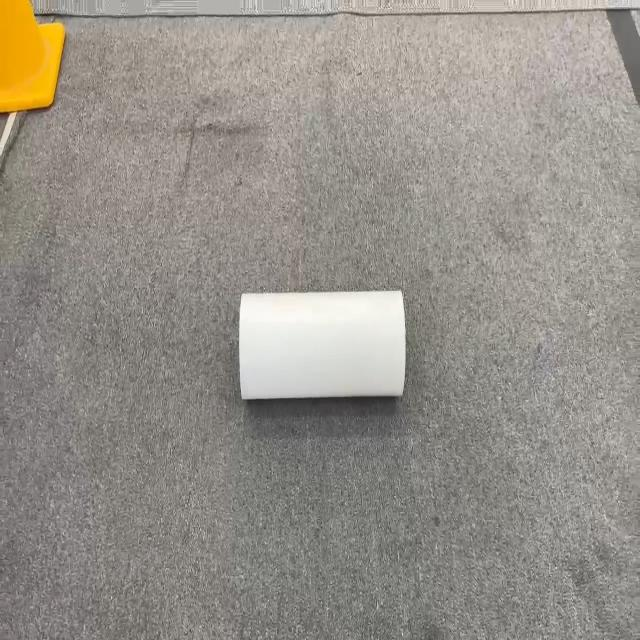coral: (238, 287, 406, 401)
